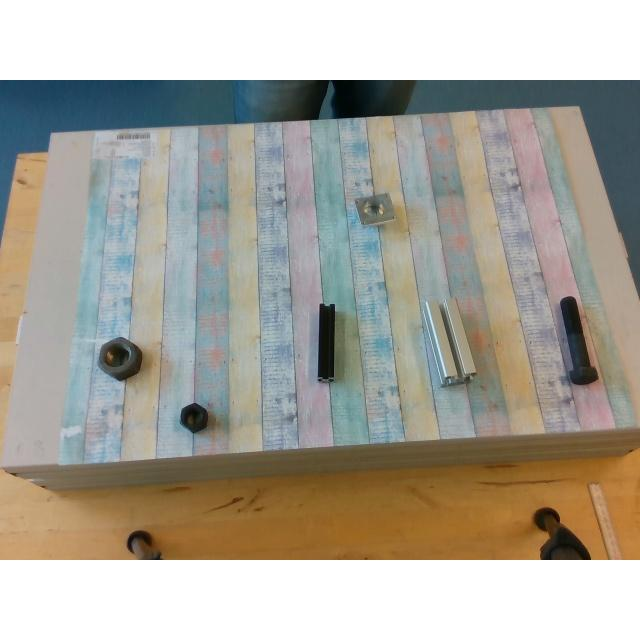F20_20_B: (318, 304, 334, 380)
M20: (177, 402, 211, 434)
M20_100: (559, 296, 595, 384)
M30: (98, 337, 142, 379)
S40_40_G: (421, 298, 475, 384)
